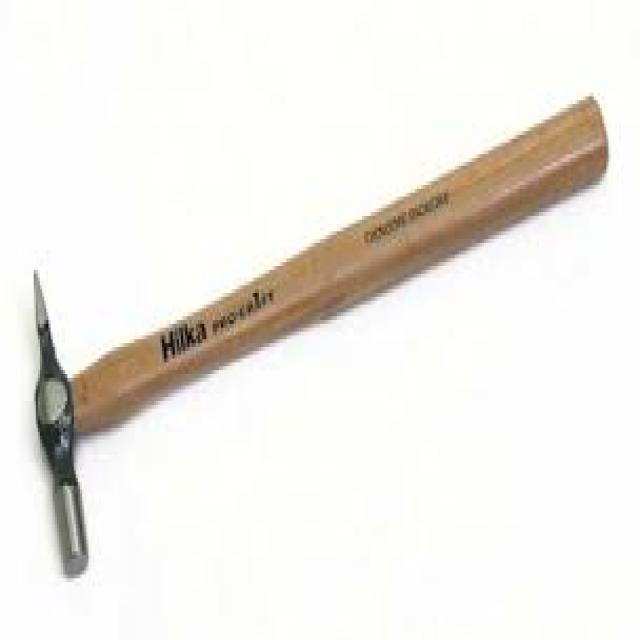Palu: (25, 130, 612, 577)
